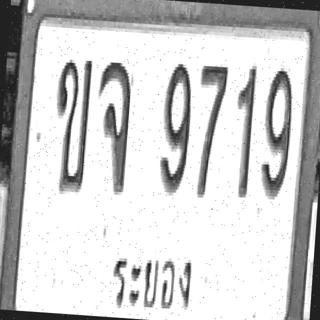A02: (50, 56, 92, 192)
A08: (92, 59, 133, 192)
N01: (230, 62, 257, 198)
N07: (192, 61, 228, 197)
N09: (259, 65, 295, 199), (157, 60, 193, 193)
P53: (104, 242, 203, 320)
